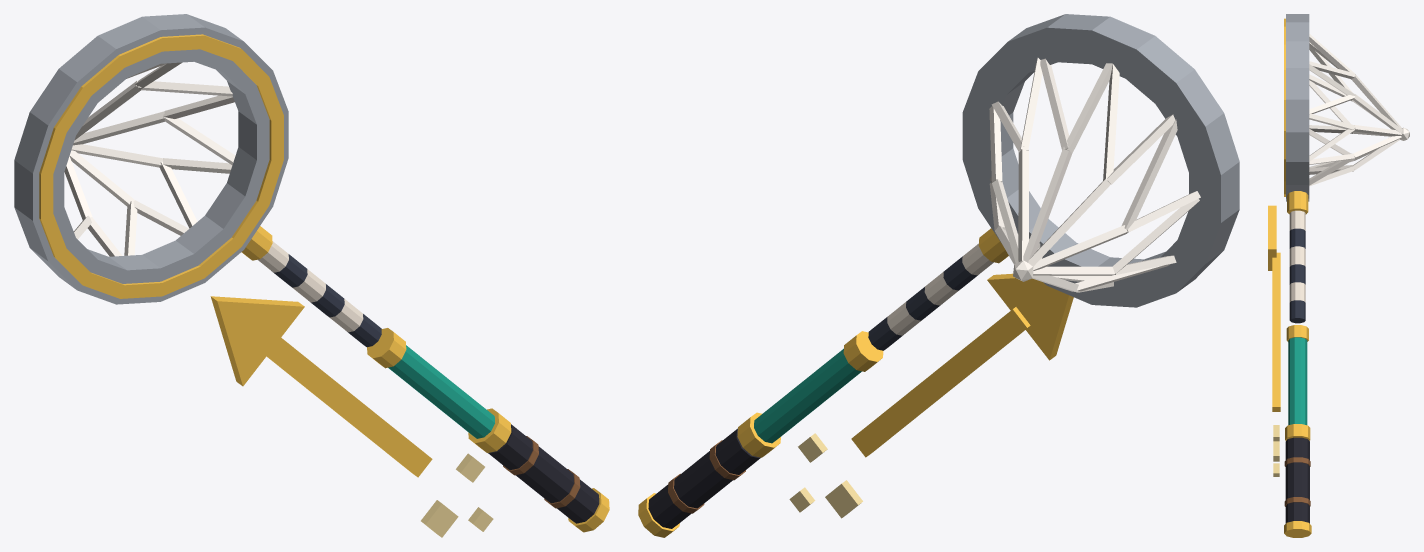
The model's file is CatCafe_Item_LongNet.glb.
The picture shows the model from 3 angles, left to right: view 1: azimuth 30°, elevation 25°; view 2: azimuth 150°, elevation 25°; view 3: azimuth 270°, elevation 25°; orthographic projection. The views are drawn at different scales.
Visible parts, largest first — view 1: CatCafe_Item_LongNet; view 2: CatCafe_Item_LongNet; view 3: CatCafe_Item_LongNet.
Part boxes in pixels (bbox=[...]): CatCafe_Item_LongNet: bbox=[14, 14, 609, 537]; CatCafe_Item_LongNet: bbox=[638, 14, 1239, 537]; CatCafe_Item_LongNet: bbox=[1268, 14, 1409, 537].
Size of the model in its own units: 3.99 by 4 by 1.34.
Materials: 1 (1 with a texture image).
